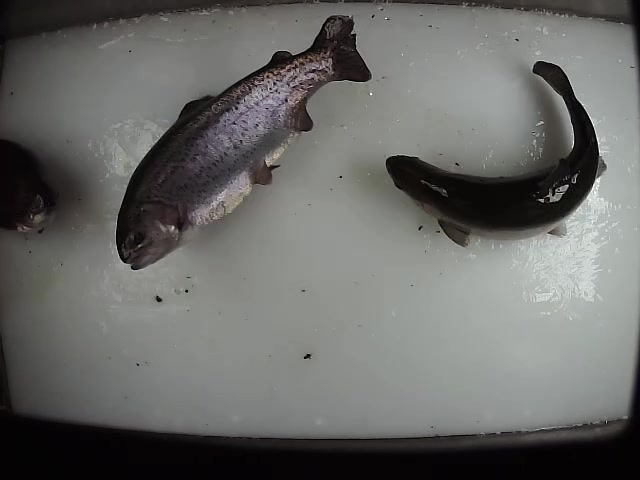fish: (113, 13, 372, 273), (383, 58, 610, 249)
